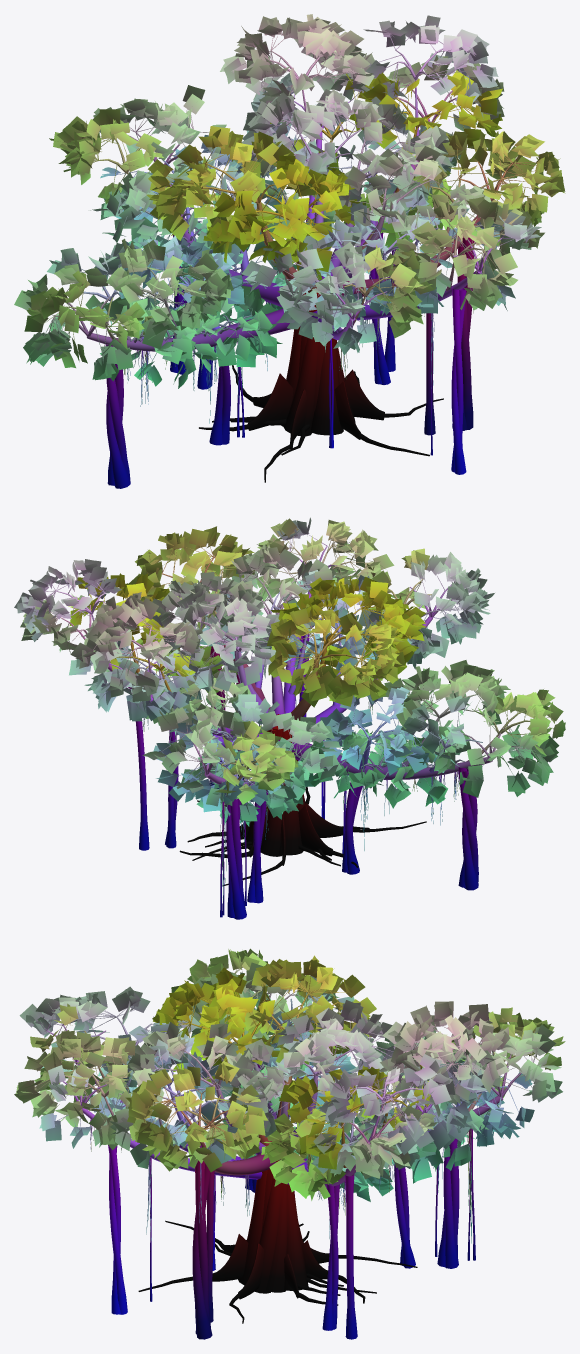
The model's file is banyan_placeholder.glb.
The picture shows the model from 3 angles, top to bottom: view 1: azimuth 30°, elevation 25°; view 2: azimuth 150°, elevation 25°; view 3: azimuth 270°, elevation 25°; orthographic projection. The views are drawn at different scales.
Parts seen in each view (by area): view 1: banyan_placeholder; view 2: banyan_placeholder; view 3: banyan_placeholder.
Boxes of the visible parts, x1=… form: banyan_placeholder: x1=14, y1=14, x2=565, y2=488; banyan_placeholder: x1=14, y1=517, x2=565, y2=919; banyan_placeholder: x1=14, y1=948, x2=565, y2=1339.
Size of what is drawn, in the model's own units: 25.75 by 14.8 by 24.02.
